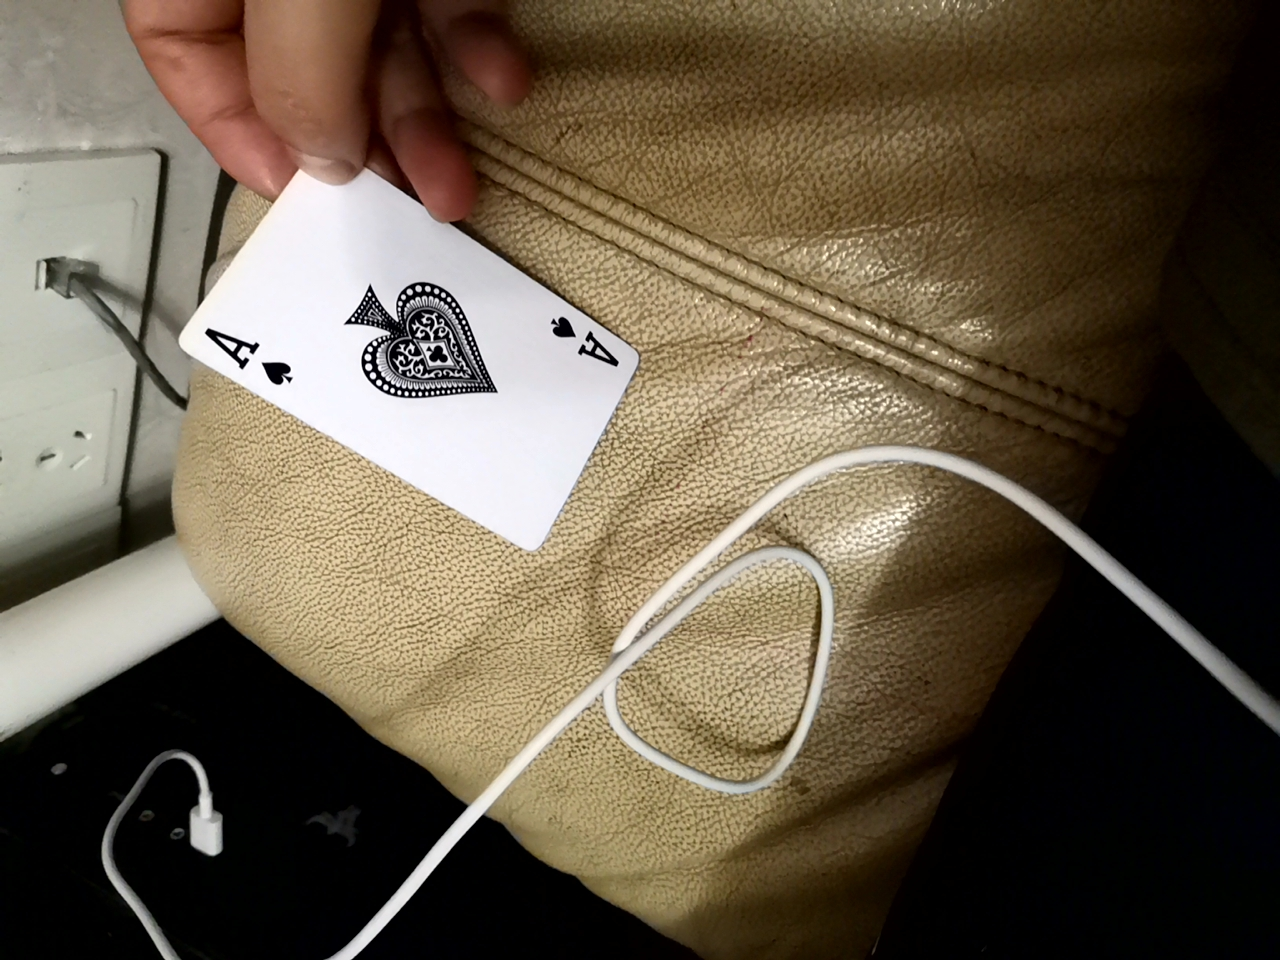ht a: (187, 162, 614, 569)
